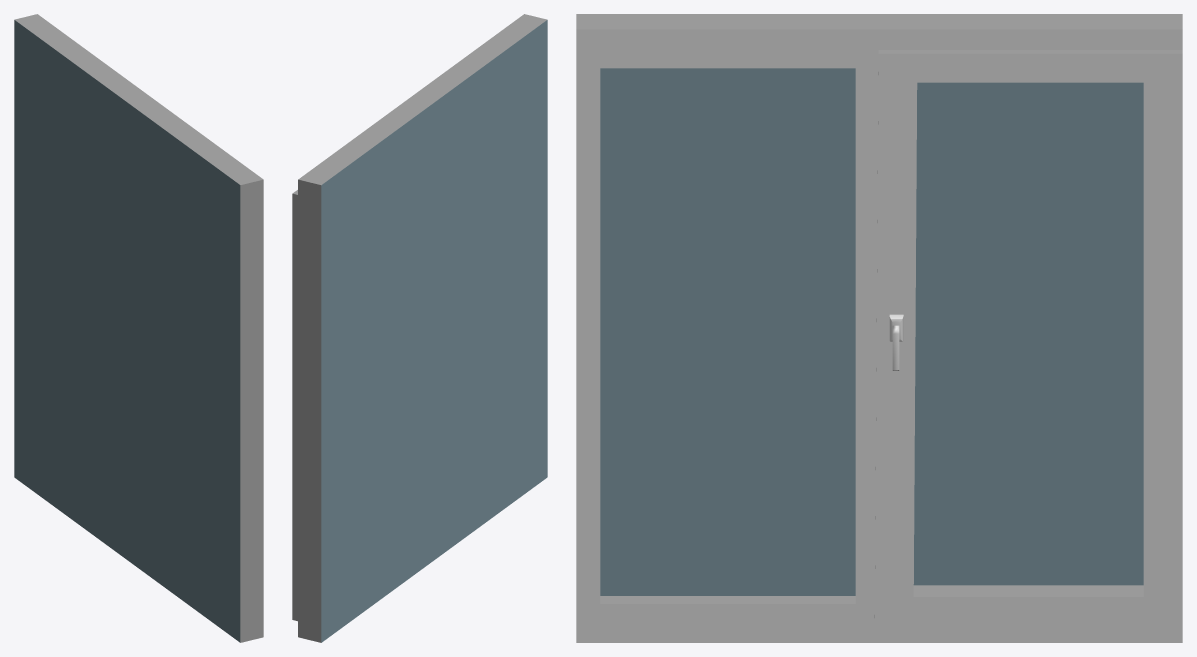
The model's file is window.fbx.
The picture shows the model from 3 angles, left to right: view 1: azimuth 30°, elevation 25°; view 2: azimuth 150°, elevation 25°; view 3: azimuth 270°, elevation 25°; orthographic projection. The views are drawn at different scales.
Visible parts, largest first — view 1: pCube7; view 2: pCube7; view 3: pCube7.
Boxes of the visible parts, bbox=[...] form: pCube7: bbox=[14, 14, 263, 642]; pCube7: bbox=[292, 14, 547, 642]; pCube7: bbox=[576, 14, 1182, 642].
Bounding box in the file's own units: 0.9295 × 9.9 × 8.87.
